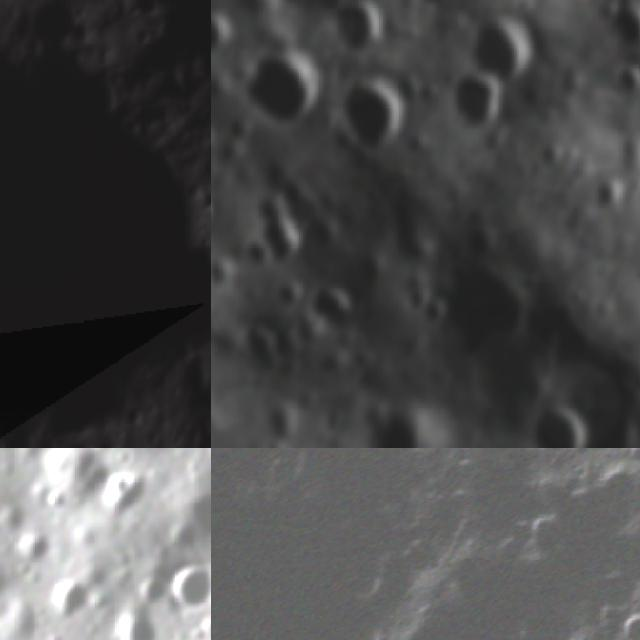crater: (436, 258, 538, 365), (454, 11, 552, 95), (332, 66, 418, 160), (243, 37, 325, 135), (436, 64, 513, 144), (256, 183, 313, 276), (351, 393, 437, 448), (40, 564, 107, 632), (98, 588, 184, 640), (157, 545, 211, 624), (8, 513, 72, 577), (574, 387, 640, 448), (328, 0, 389, 60), (522, 400, 586, 448), (311, 278, 358, 331), (97, 463, 144, 510), (266, 397, 302, 448), (267, 274, 310, 315), (211, 2, 240, 62), (610, 0, 640, 53), (418, 294, 452, 338), (611, 54, 640, 103), (596, 172, 629, 212), (538, 138, 568, 178), (238, 238, 274, 270), (613, 602, 640, 640), (398, 280, 428, 314), (211, 256, 236, 290), (627, 360, 640, 399)
